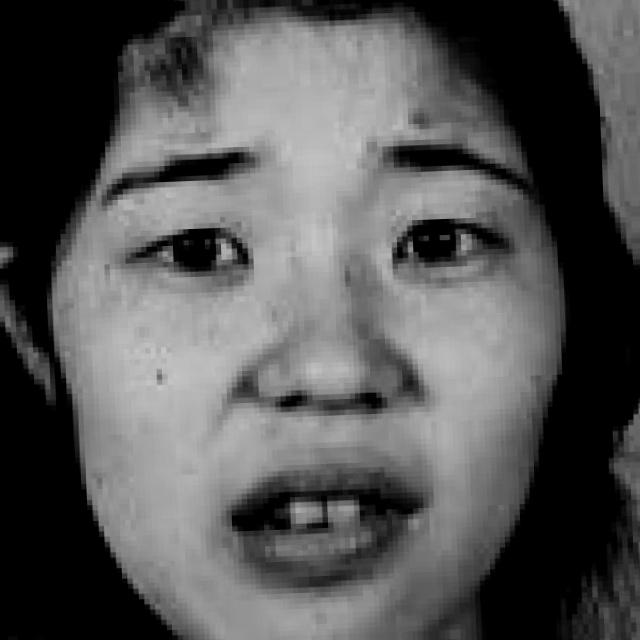fear: (89, 62, 571, 628)
